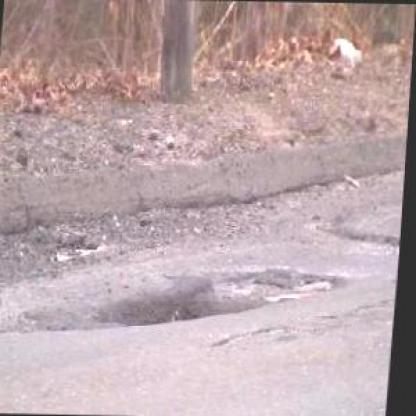pothole: (102, 259, 350, 333)
